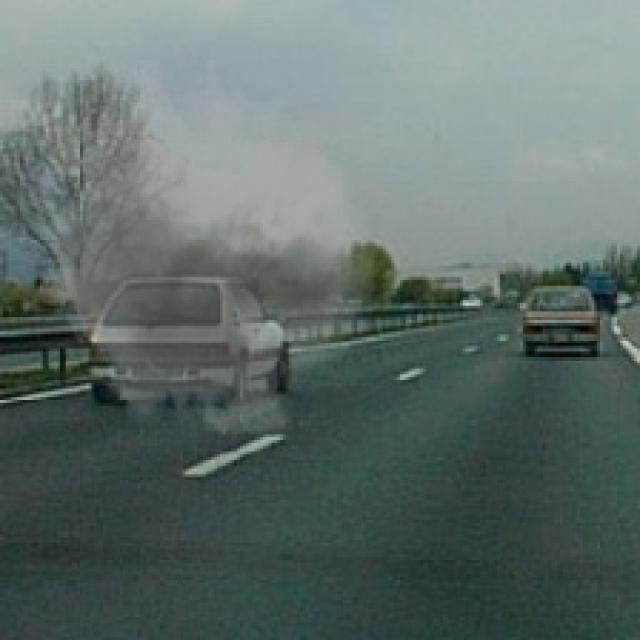Smoke: (26, 57, 377, 457)
